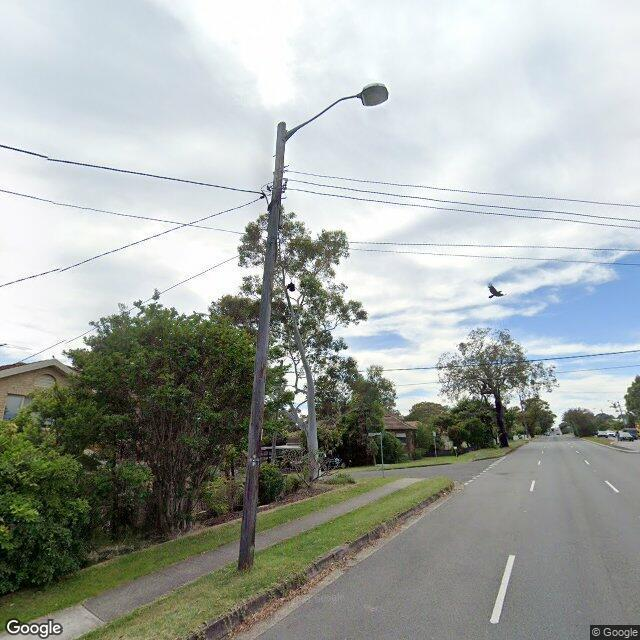streetlight: (284, 81, 391, 139)
timber-pole: (238, 121, 286, 572)
